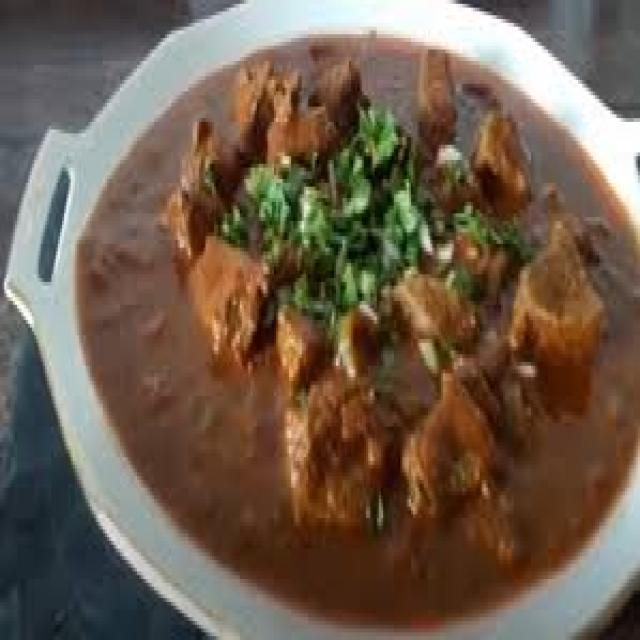Kamouniya: (6, 4, 640, 634)
